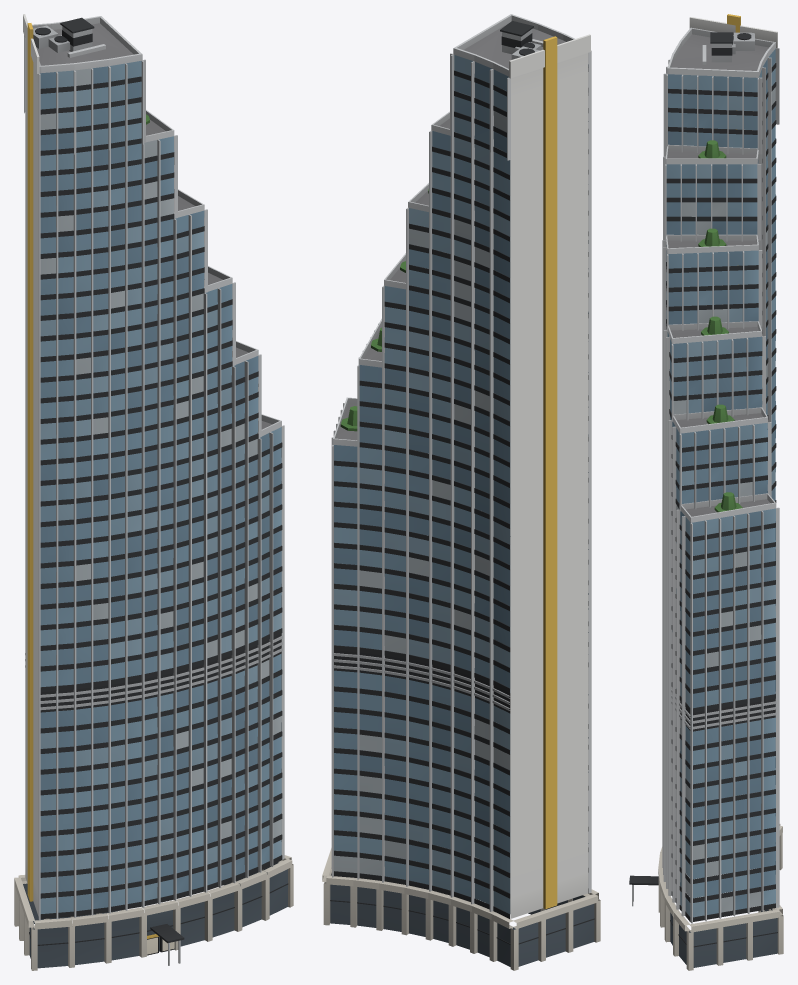
The picture shows the model from 3 angles, left to right: view 1: azimuth 30°, elevation 25°; view 2: azimuth 150°, elevation 25°; view 3: azimuth 270°, elevation 25°; orthographic projection. The views are drawn at different scales.
Parts seen in each view (by area): view 1: t4; view 2: t4; view 3: t4.
Part boxes in pixels (<box>): t4: <box>14,14,293,970</box>; t4: <box>322,14,600,970</box>; t4: <box>629,14,783,970</box>.
Bounding box in the file's own units: 52.16 × 174 × 28.73.
